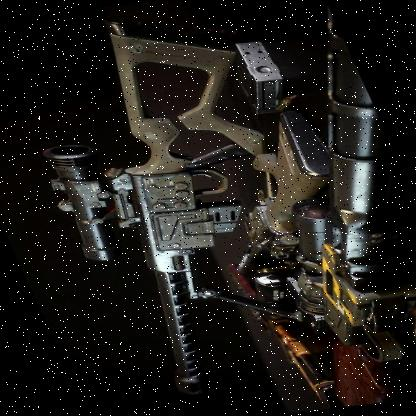rifle: (0, 14, 389, 396)
